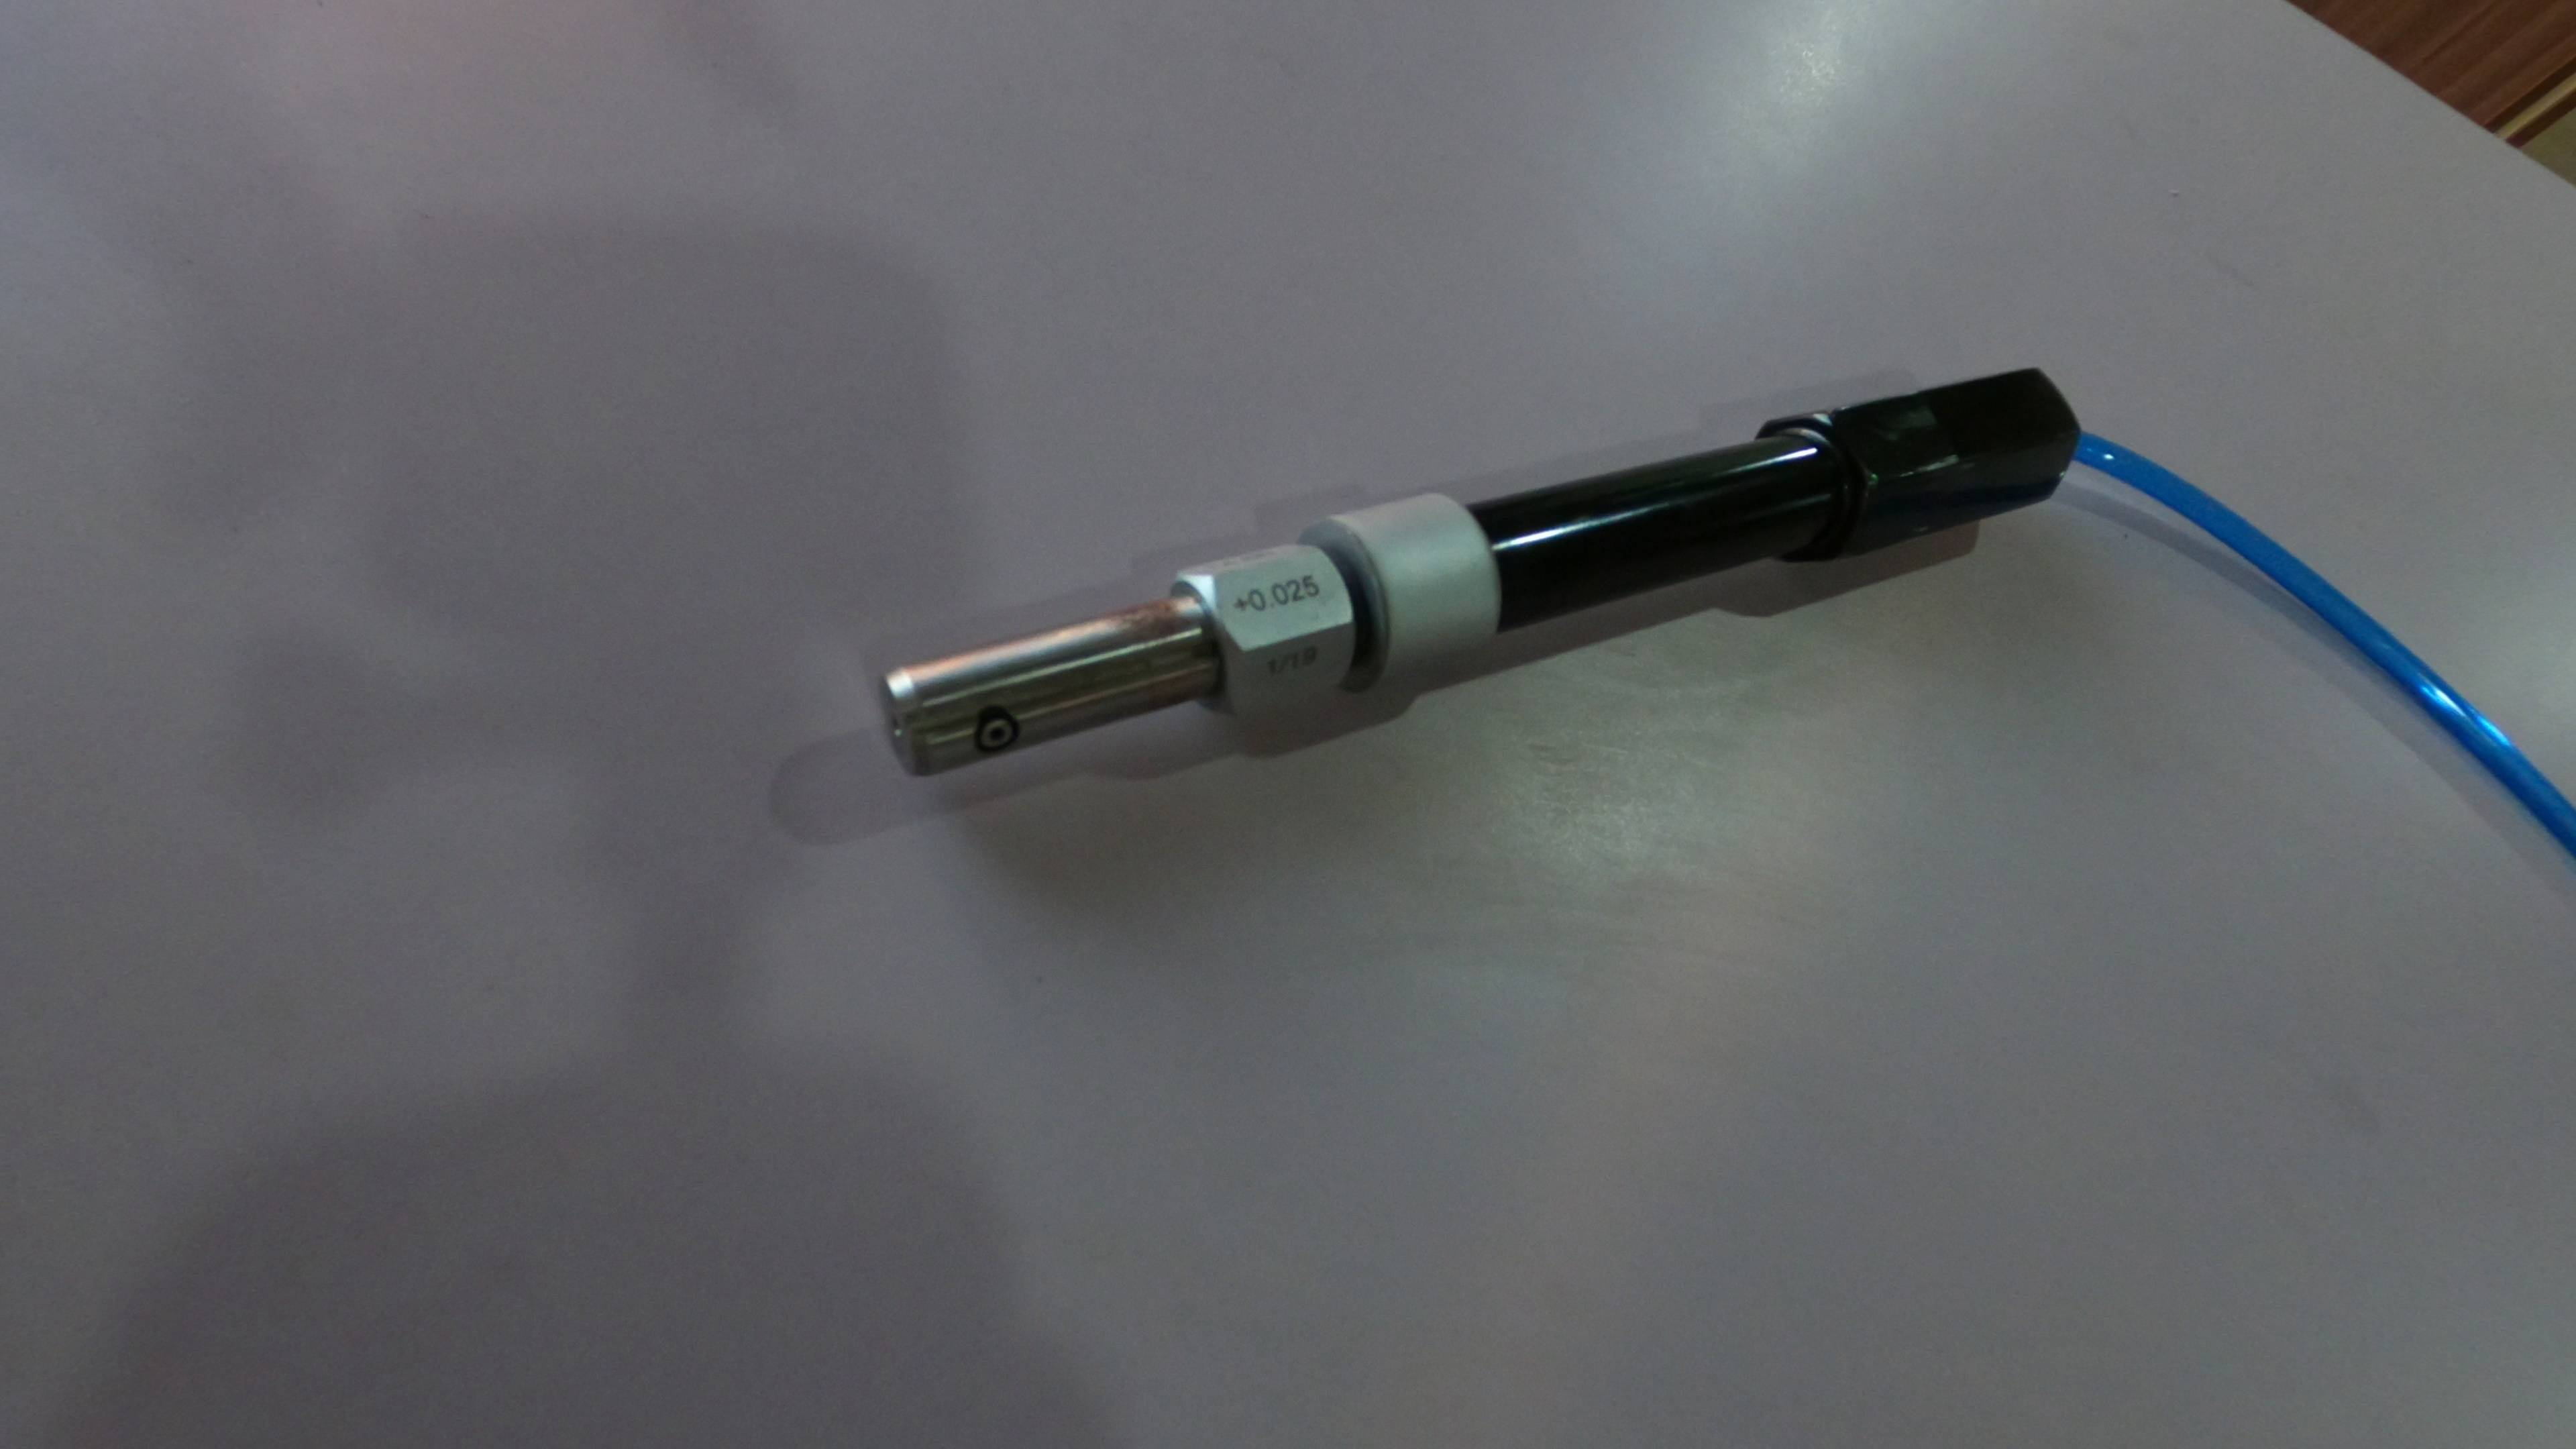air_gauge: (870, 364, 2095, 807)
